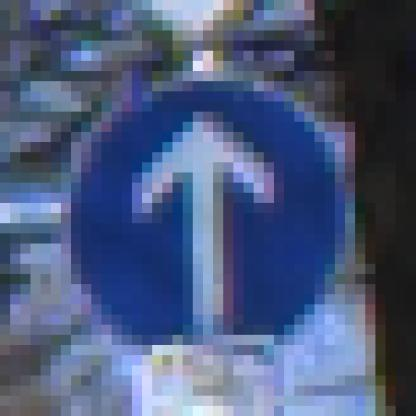AheadOnly: (52, 62, 366, 366)
